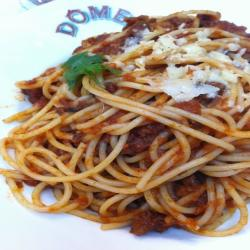bolonese_pasta: (6, 6, 250, 235)
